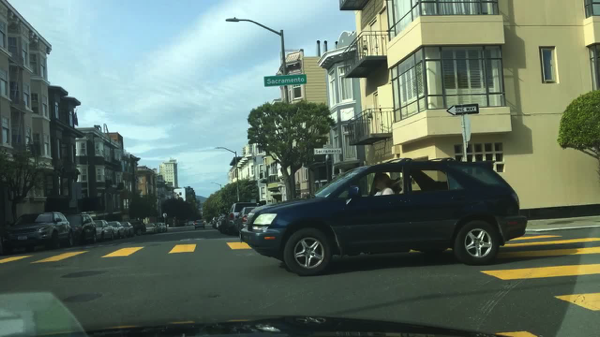car: (240, 156, 528, 278), (5, 211, 74, 252), (226, 200, 259, 234), (65, 213, 97, 246), (232, 207, 259, 234), (93, 219, 114, 242), (109, 221, 126, 238), (120, 221, 135, 238), (130, 221, 147, 235), (219, 214, 229, 232), (145, 222, 159, 234), (216, 214, 225, 228), (194, 220, 206, 229), (156, 222, 165, 233), (163, 223, 168, 232), (211, 217, 217, 224), (188, 220, 194, 226)
traffic sign: (264, 74, 306, 88), (447, 103, 478, 116), (461, 114, 471, 144), (313, 147, 342, 156), (163, 213, 167, 219)
